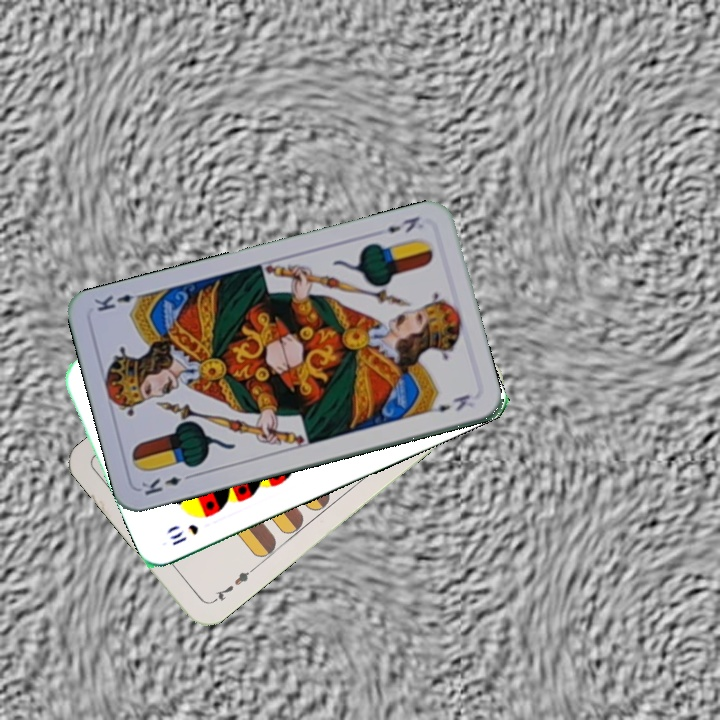E7: (207, 564, 257, 606)
EK: (137, 470, 196, 498), (382, 212, 422, 236)
S10: (166, 520, 201, 548)
